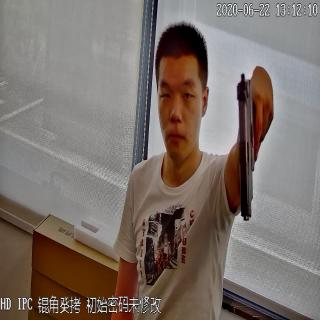gun: (233, 66, 276, 226)
